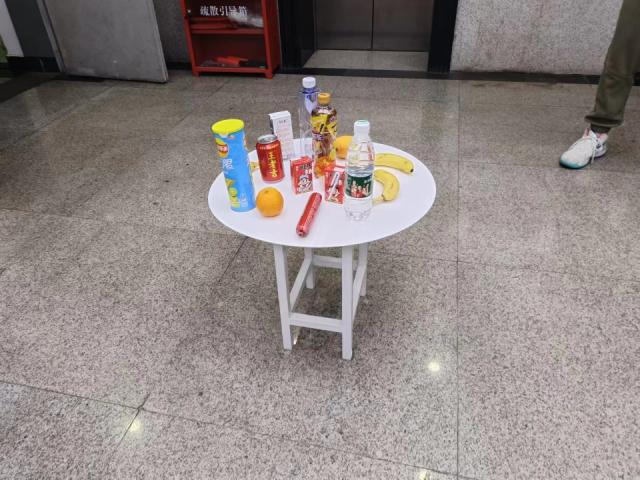Canned_drinks: (257, 134, 286, 184)
bottle: (344, 118, 374, 222), (296, 76, 322, 162)
cylinder: (212, 118, 258, 212)
drink_box: (268, 110, 295, 159), (290, 156, 314, 194), (325, 164, 345, 203)
